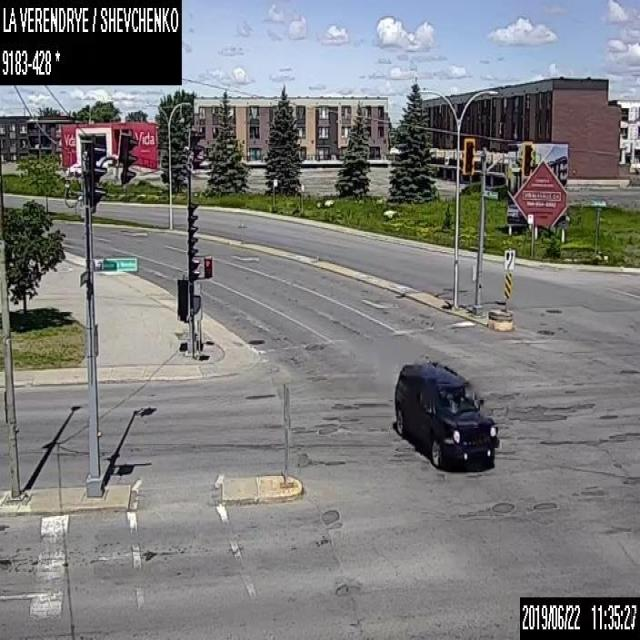vehicle: (393, 359, 497, 472)
